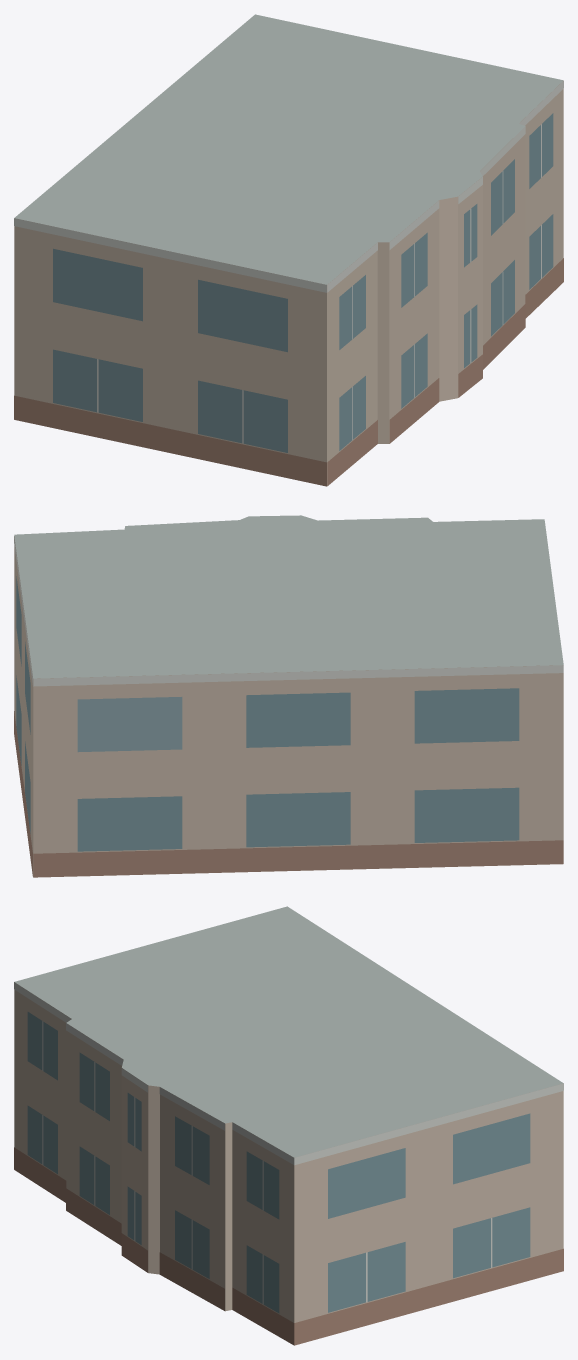
File: survey-upis-33011756.glb
3 renders of one model, top to bottom at view 1: azimuth 30°, elevation 25°; view 2: azimuth 150°, elevation 25°; view 3: azimuth 270°, elevation 25°, orthographic. The views are drawn at different scales.
Visible parts, largest first — view 1: survey-upis-33011756.tmp; view 2: survey-upis-33011756.tmp; view 3: survey-upis-33011756.tmp.
Boxes of the visible parts, bbox=[...] form: survey-upis-33011756.tmp: bbox=[14, 14, 563, 486]; survey-upis-33011756.tmp: bbox=[14, 515, 563, 877]; survey-upis-33011756.tmp: bbox=[14, 906, 563, 1345].
Size of the model in its own units: 17.53 by 6.1 by 16.2.
